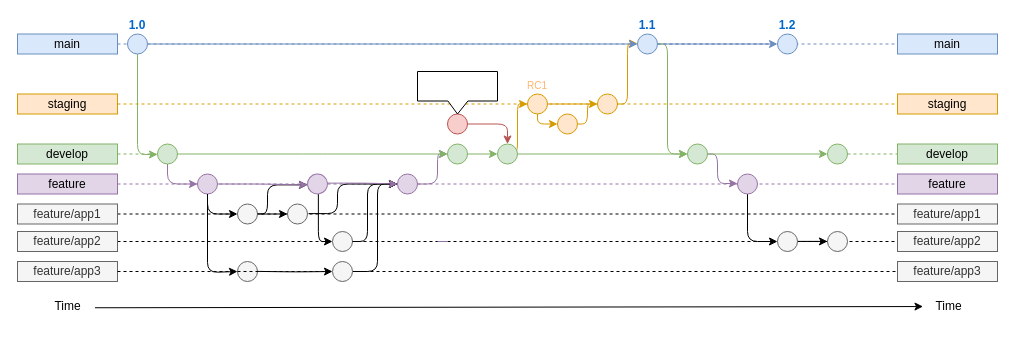
Some shapes in this 1015 by 339 pixel diagram are drawn without their labels. The shapes that lost their labels are listed below. From the top down, each one's centre as x and y in pixels, then its label:
At point (457, 92): "タグの作成 1.1".
At point (607, 103): "RC2".
